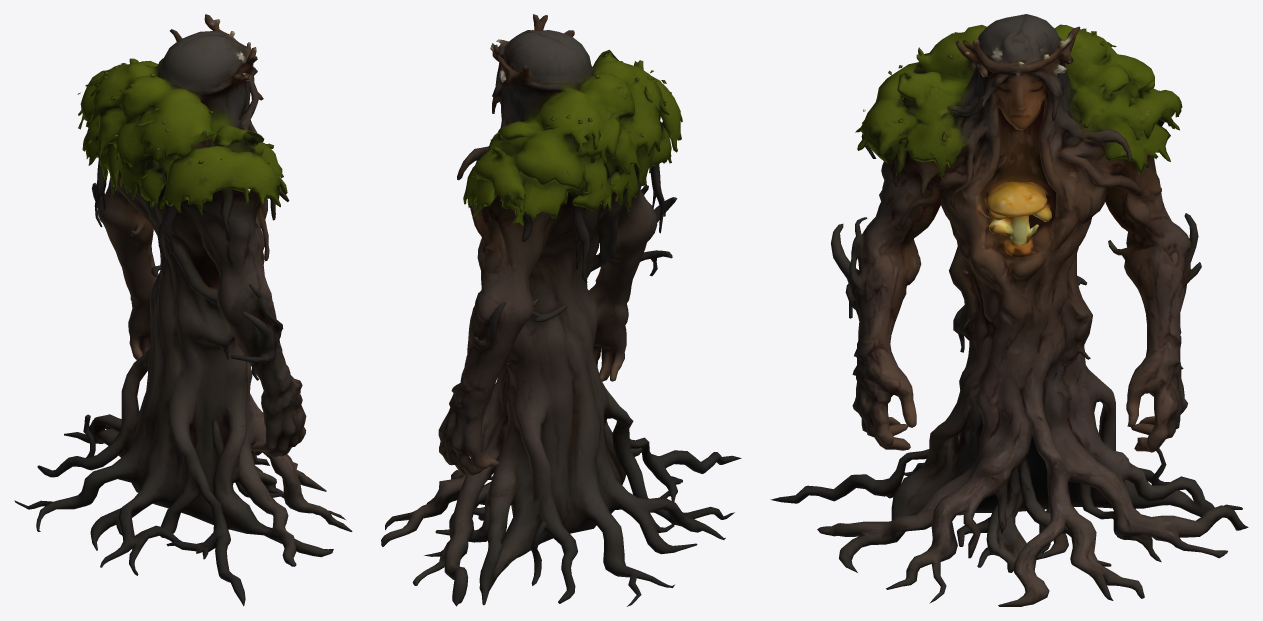
3 renders of one model, left to right at view 1: azimuth 30°, elevation 25°; view 2: azimuth 150°, elevation 25°; view 3: azimuth 270°, elevation 25°, orthographic. The views are drawn at different scales.
Visible parts, largest first — view 1: tripo_node_2fcbb2bd-e0db-45a9-ad55-7cb12f8943d7; view 2: tripo_node_2fcbb2bd-e0db-45a9-ad55-7cb12f8943d7; view 3: tripo_node_2fcbb2bd-e0db-45a9-ad55-7cb12f8943d7.
Part boxes in pixels (x1,y1,x2,y2): tripo_node_2fcbb2bd-e0db-45a9-ad55-7cb12f8943d7: (14,14,352,606); tripo_node_2fcbb2bd-e0db-45a9-ad55-7cb12f8943d7: (381,14,741,606); tripo_node_2fcbb2bd-e0db-45a9-ad55-7cb12f8943d7: (770,14,1248,606).
Size of the model in its own units: 0.5636 by 1 by 0.818.
1 material, 1 textured.
